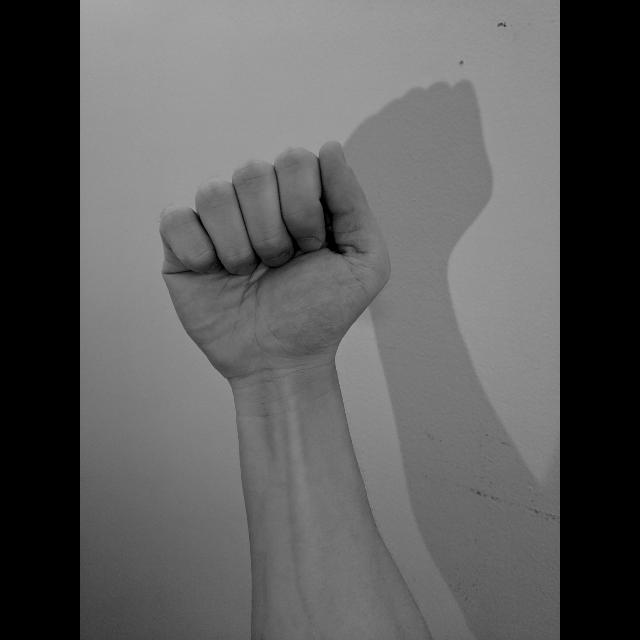A: (154, 135, 396, 397)
